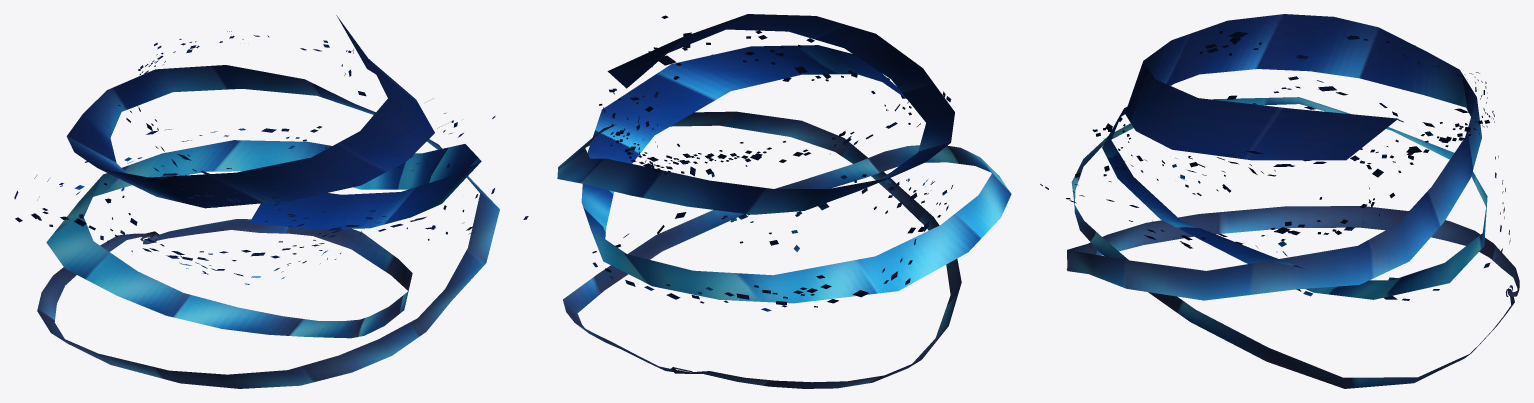
Rendered from ribbon.glb.
3 renders of one model, left to right at view 1: azimuth 30°, elevation 25°; view 2: azimuth 150°, elevation 25°; view 3: azimuth 270°, elevation 25°, orthographic. The views are drawn at different scales.
Parts seen in each view (by area): view 1: Ribbon; view 2: Ribbon; view 3: Ribbon.
Boxes of the visible parts, x1,y1,x2,y2 form: Ribbon: (14, 15, 528, 388); Ribbon: (557, 14, 1011, 388); Ribbon: (1040, 14, 1519, 388).
Bounding box in the file's own units: 2.32 × 1.41 × 2.4.
1 material, 1 textured.
